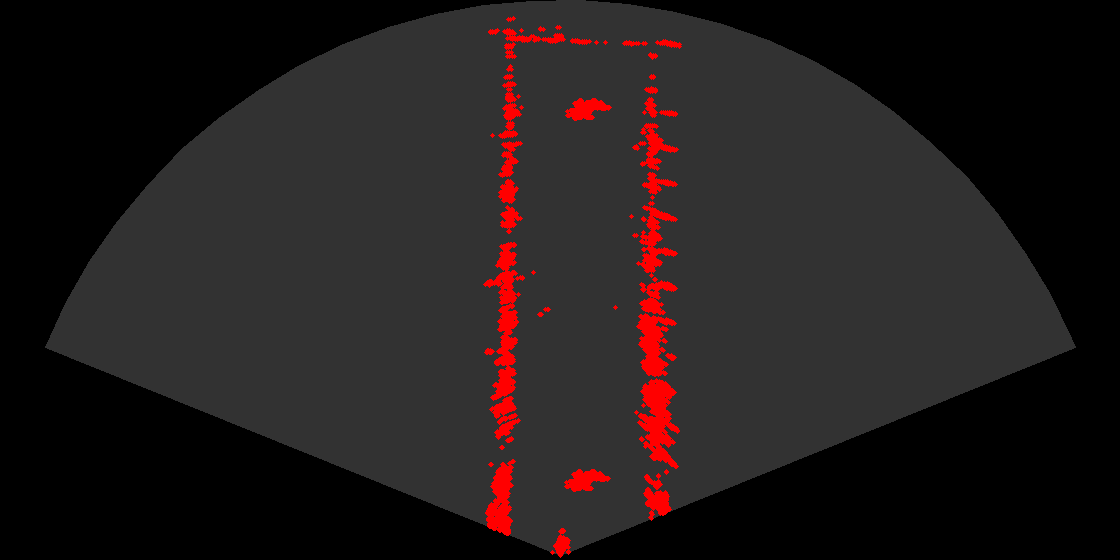AUV: (558, 467, 614, 499), (559, 96, 615, 128)
